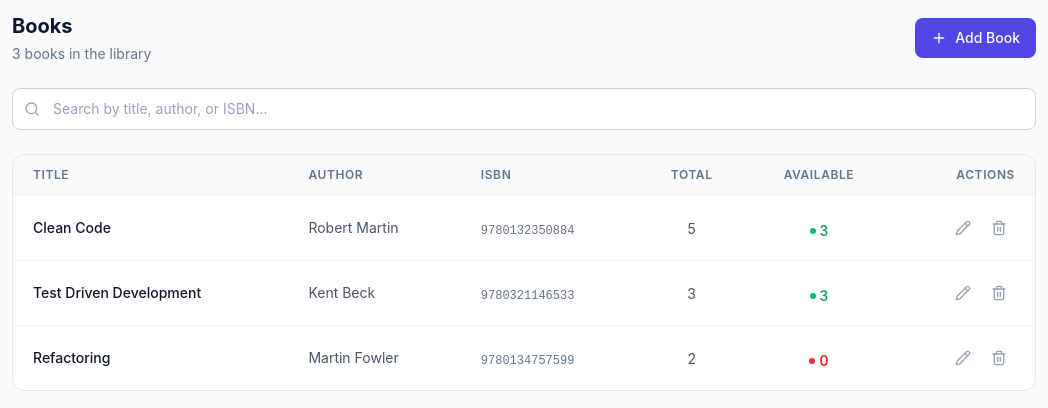
Test: Books › filters books by ISBN in search
Expected: the text "9780132350884" is shown, left=481, top=224, right=574, bottom=238
In the field with placeholder "Search by title, author, or ISBN...": (524, 109) left=12, top=88, right=1036, bottom=130, type "9780134757599"
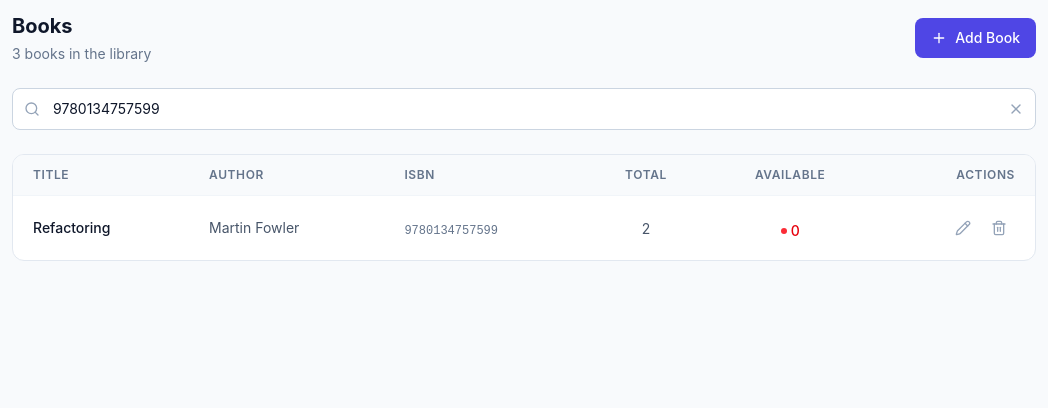
Expected: the text "Refactoring" is shown, left=33, top=219, right=110, bottom=236
Expected: the text "Clean Code" is gone
